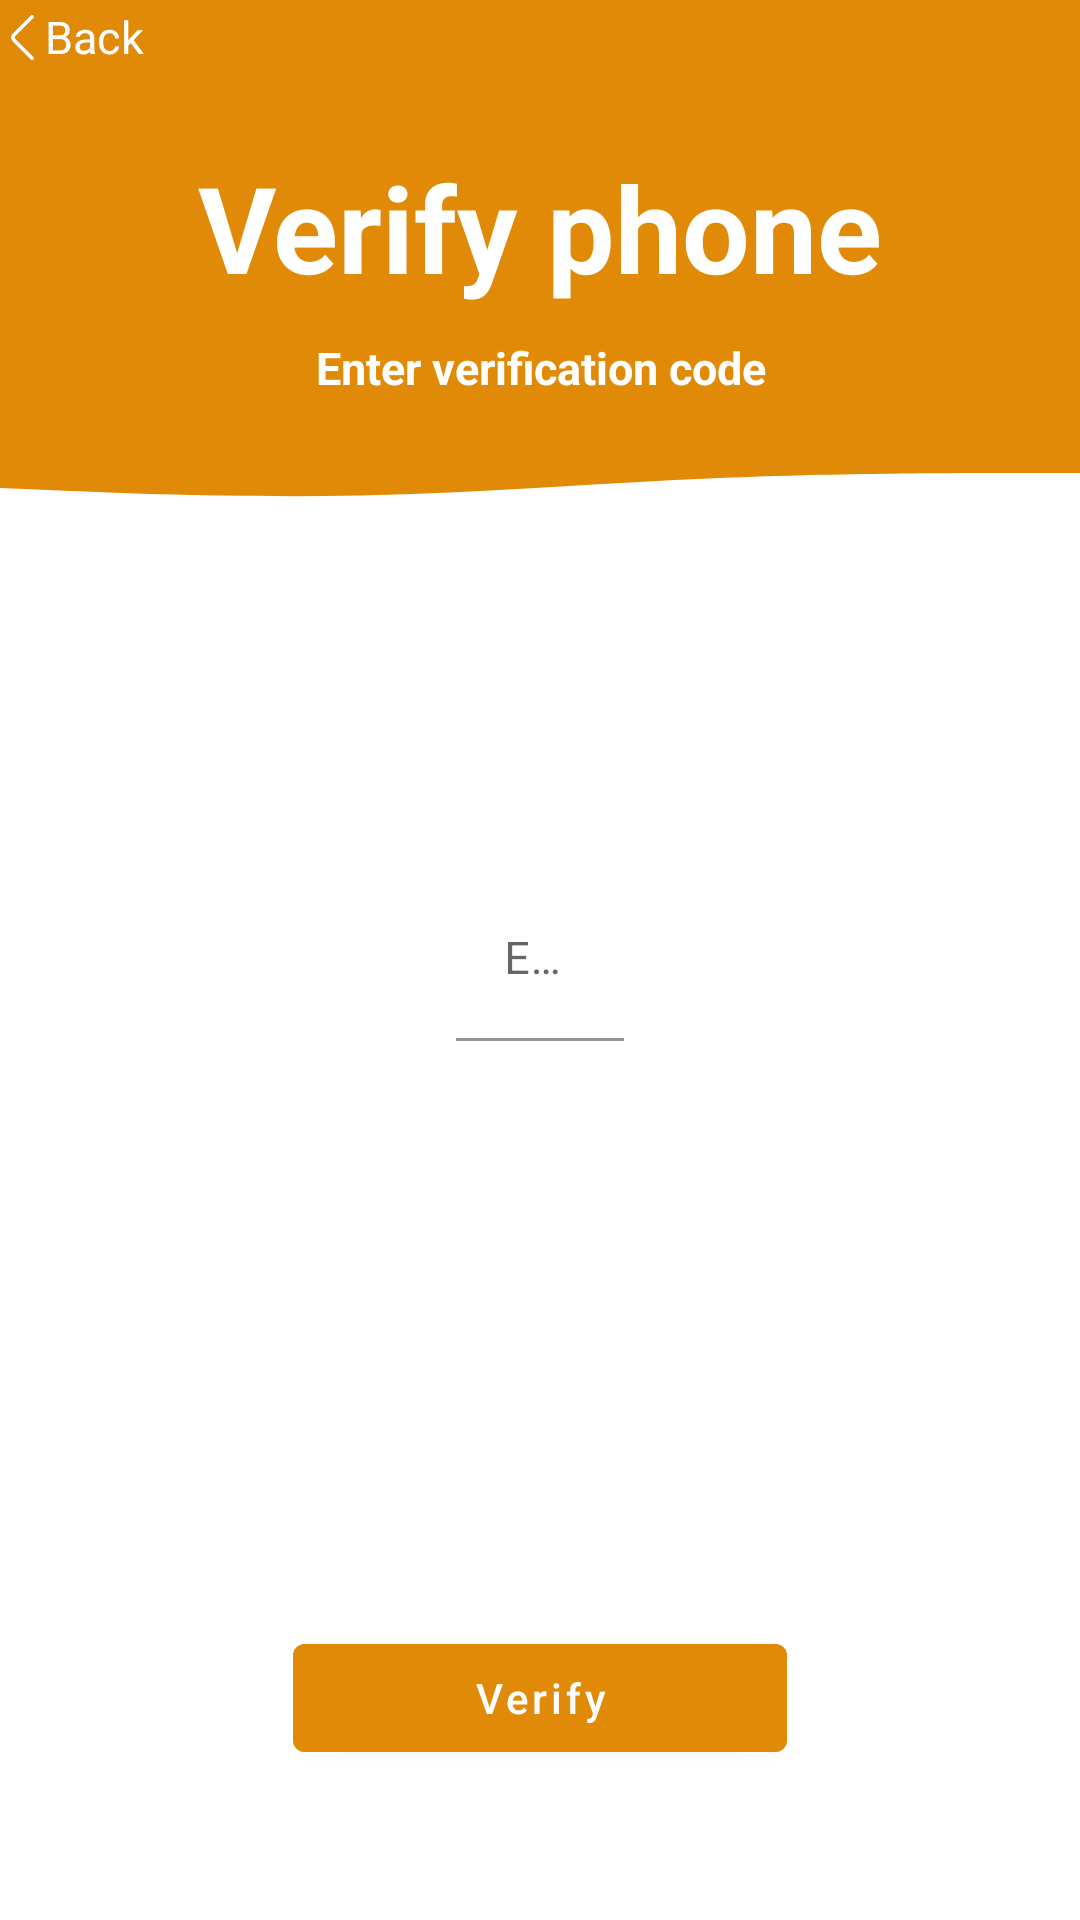

Where to tap for icons on this 1080x1920 app screen, as [x,y]:
left arrow: [22,37]
